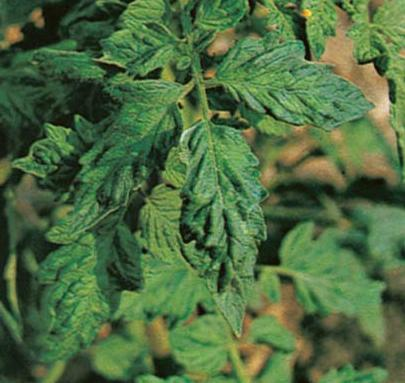Tomato leaf mosaic virus: (169, 125, 268, 331), (69, 76, 189, 232), (28, 214, 141, 361), (217, 39, 366, 135), (91, 31, 194, 74), (187, 0, 249, 40)
